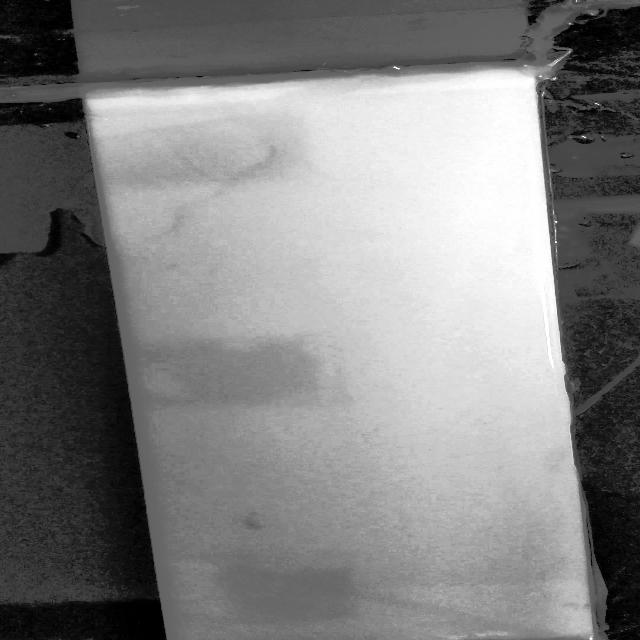shrimp: (236, 515, 274, 532)
